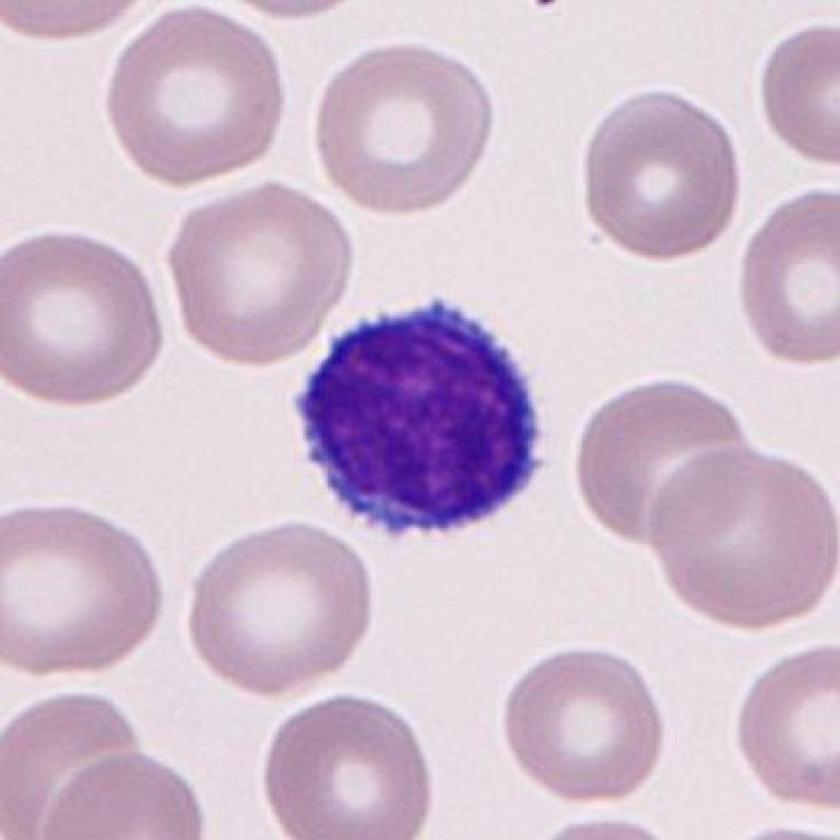lymphocyte: (279, 288, 561, 561)
